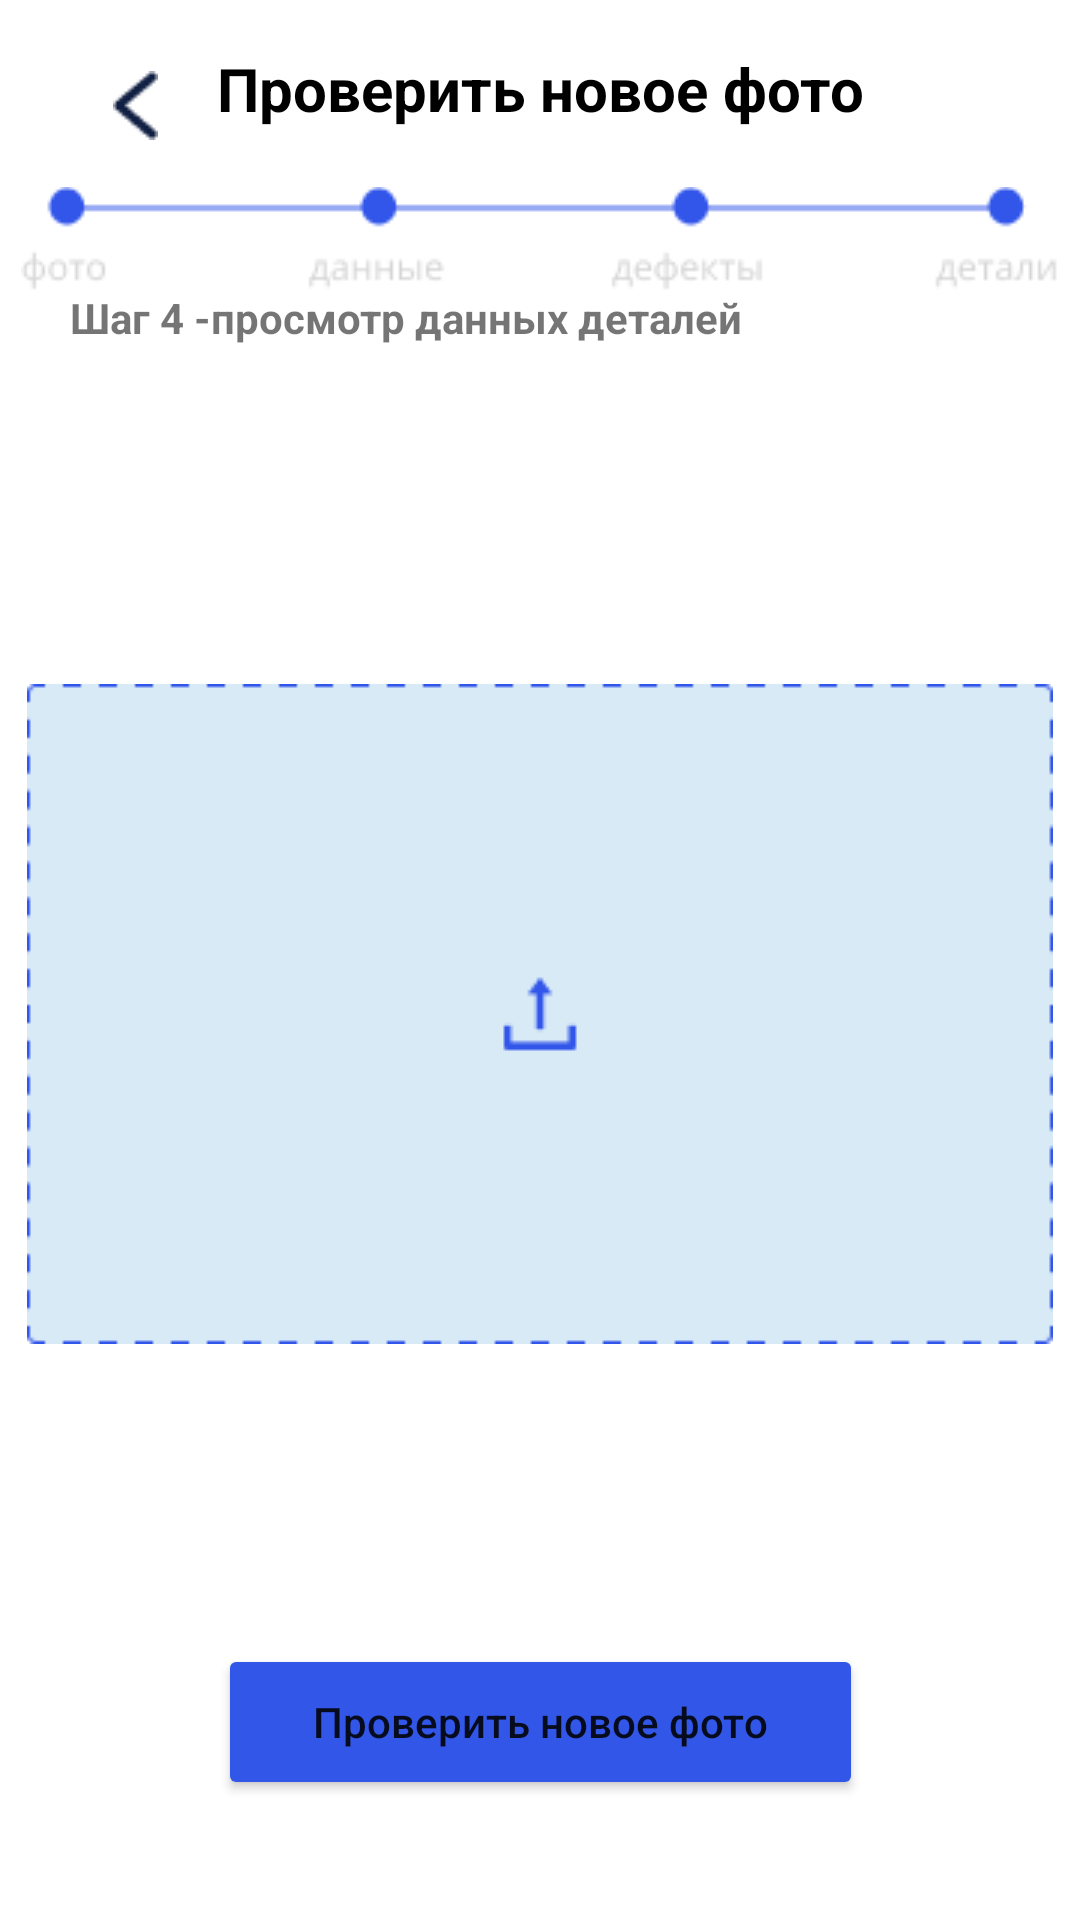

Screen size 1080 × 1920. Icon name, then its box in pixels as [x1, y1, x2, y2]:
backbutton: [113, 71, 158, 140]
